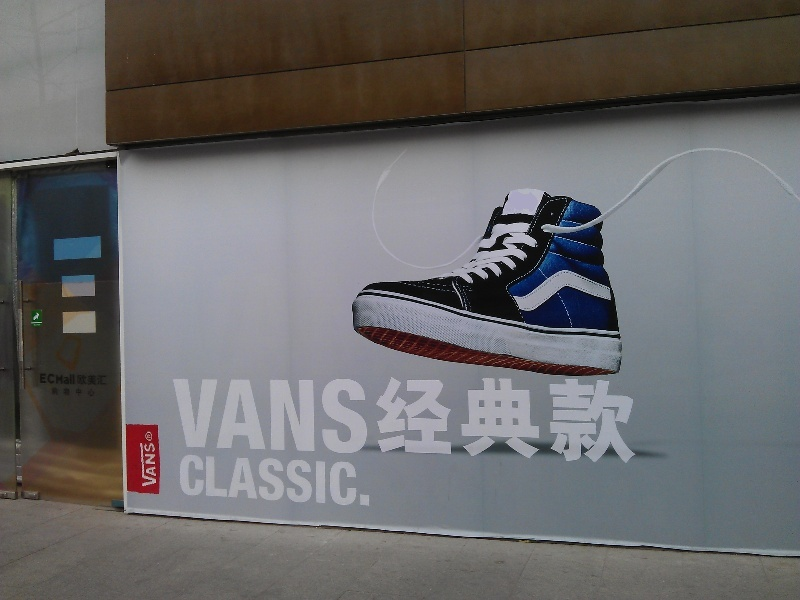text: (177, 378, 192, 465), (193, 378, 208, 465), (209, 378, 224, 465), (225, 378, 240, 465), (241, 378, 256, 465), (257, 378, 272, 465), (273, 378, 288, 465), (289, 378, 304, 465), (305, 378, 320, 465), (321, 378, 336, 465), (337, 378, 352, 465), (353, 378, 368, 465), (369, 378, 384, 465), (385, 378, 400, 465), (401, 378, 416, 465), (417, 378, 432, 465), (433, 378, 448, 465), (449, 378, 464, 465), (465, 378, 480, 465), (481, 378, 496, 465), (497, 378, 512, 465), (513, 378, 528, 465), (529, 378, 544, 465), (545, 378, 560, 465), (561, 378, 576, 465), (577, 378, 592, 465), (593, 378, 608, 465), (609, 378, 624, 465), (625, 378, 638, 465), (193, 453, 208, 508), (209, 453, 224, 508), (225, 453, 240, 508), (241, 453, 256, 508), (257, 453, 272, 508), (273, 453, 288, 508), (289, 453, 304, 508), (305, 453, 320, 508), (321, 453, 336, 508), (337, 453, 352, 508), (353, 453, 368, 508), (180, 453, 192, 508), (145, 442, 157, 487), (171, 378, 176, 465), (49, 373, 64, 386), (65, 373, 80, 386), (81, 373, 96, 386), (140, 442, 144, 487), (97, 373, 108, 386), (65, 388, 80, 397), (81, 388, 95, 397), (51, 388, 64, 397), (369, 453, 371, 508), (40, 373, 48, 386), (146, 433, 160, 440)
